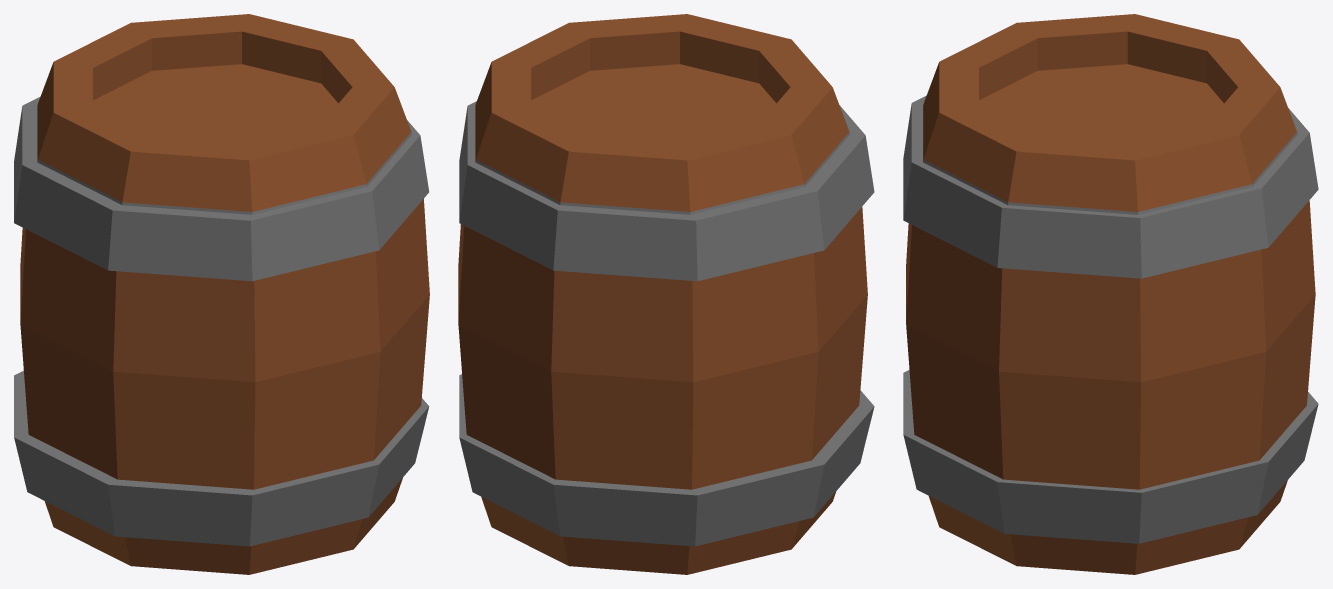
File: Barrel.fbx
3 views of the same model, side by side, from view 1: azimuth 30°, elevation 25°; view 2: azimuth 150°, elevation 25°; view 3: azimuth 270°, elevation 25° (orthographic).
Parts seen in each view (by area): view 1: Barrel; view 2: Barrel; view 3: Barrel.
Part boxes in pixels (x1,y1,x2,y2): Barrel: (14, 14, 429, 574); Barrel: (458, 14, 874, 574); Barrel: (903, 14, 1318, 574).
Size of the model in its own units: 168 by 182 by 165.
